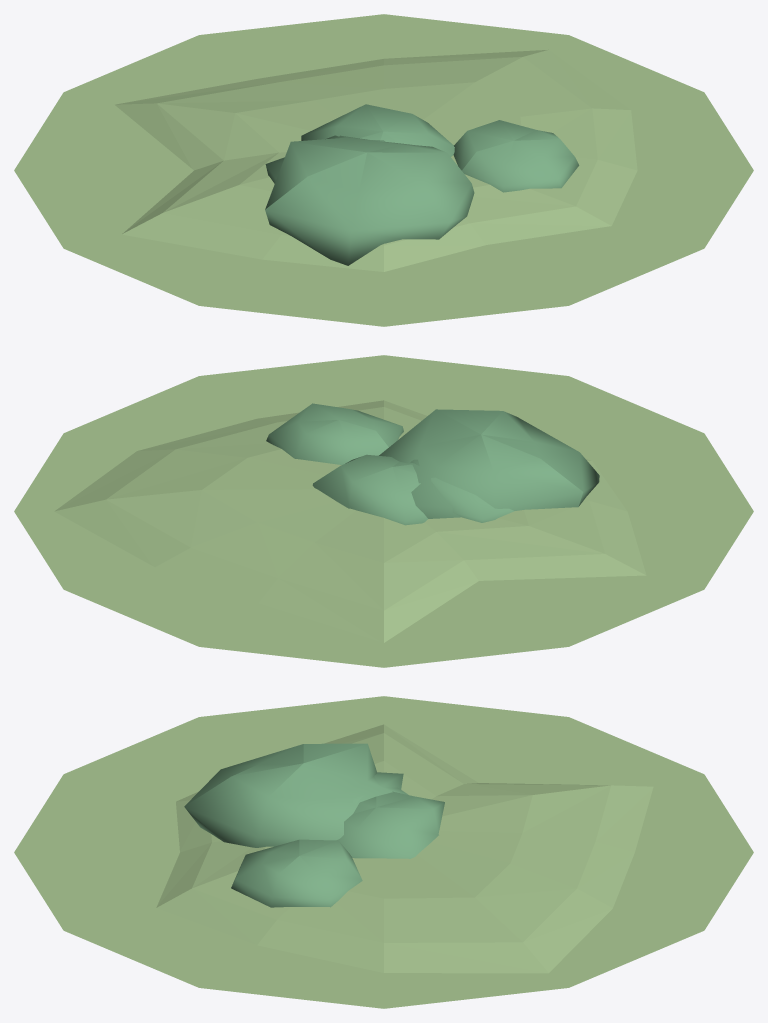
The model's file is moss_patch.glb.
The picture shows the model from 3 angles, top to bottom: view 1: azimuth 30°, elevation 25°; view 2: azimuth 150°, elevation 25°; view 3: azimuth 270°, elevation 25°; orthographic projection.
Parts seen in each view (by area): view 1: moss-patch; view 2: moss-patch; view 3: moss-patch.
Boxes of the visible parts, box(x1,y1,x2,y2) form: moss-patch: box(14, 14, 753, 326); moss-patch: box(14, 355, 753, 667); moss-patch: box(14, 696, 753, 1008).
Size of the model in its own units: 1.49 by 0.2146 by 1.49.
